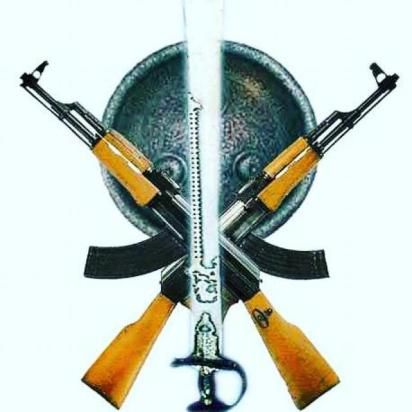Gun: (221, 60, 402, 411), (17, 58, 192, 411)
